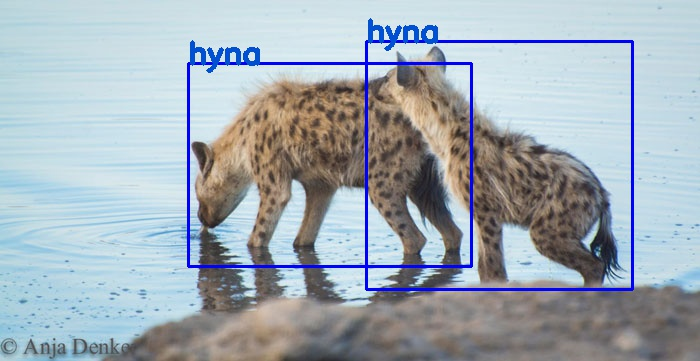hyna: (365, 41, 631, 289), (187, 63, 470, 266)
